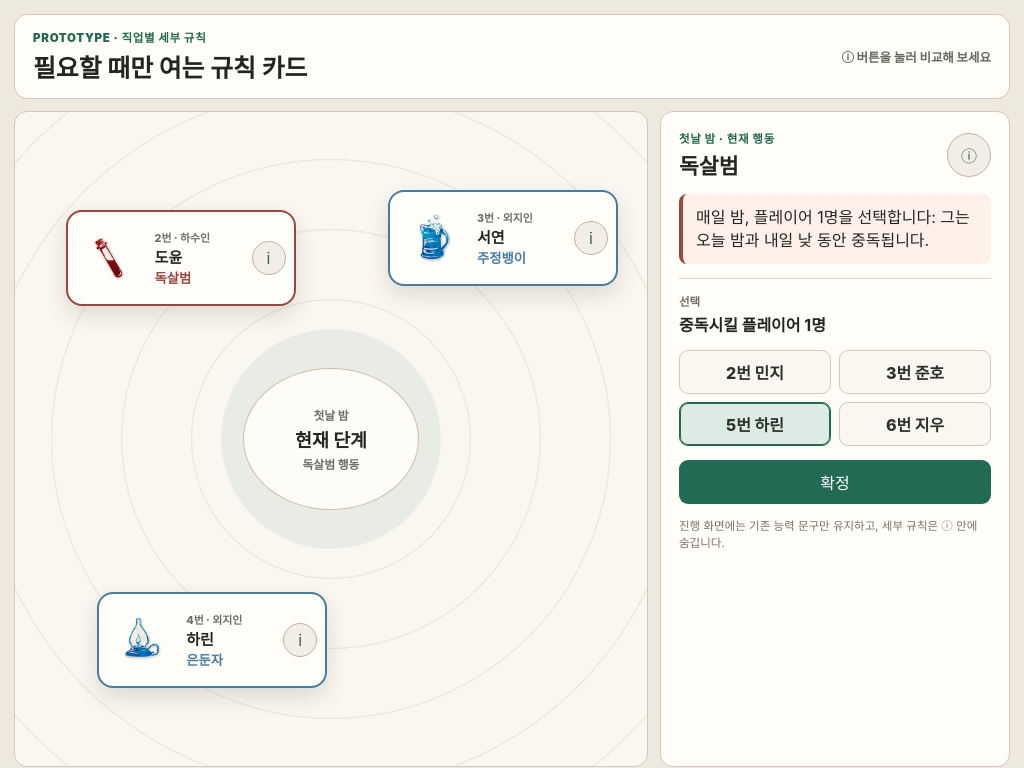
Scenario: opens a compact character rules card from an info control
Click the button named "독살범 세부 규칙 보기": (268, 258) x1=252 y1=241 x2=286 y2=275
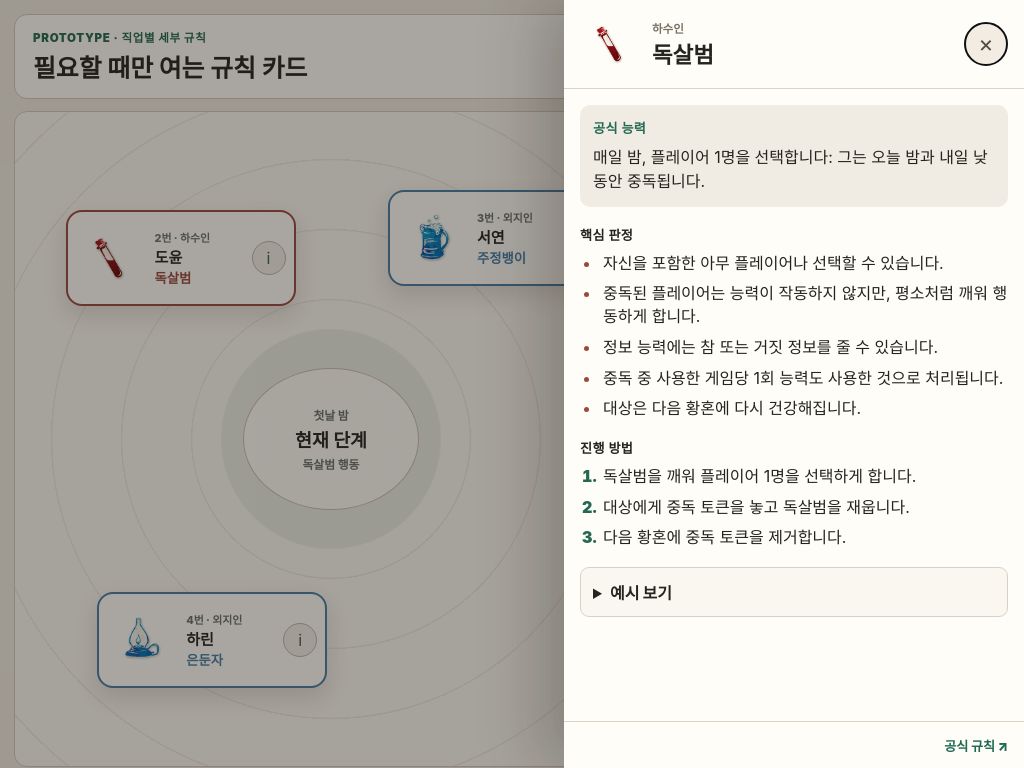
expect the heading "공식 능력" is shown: met, box x1=593 y1=120 x2=646 y2=136
expect the heading "핵심 판정" is shown: met, box x1=580 y1=227 x2=633 y2=243
expect the list item "중독된 플레이어는 능력이 작동하지 않지만, 평소처럼 깨워 행동하게 합니다." is shown: met, box x1=601 y1=282 x2=1008 y2=328
